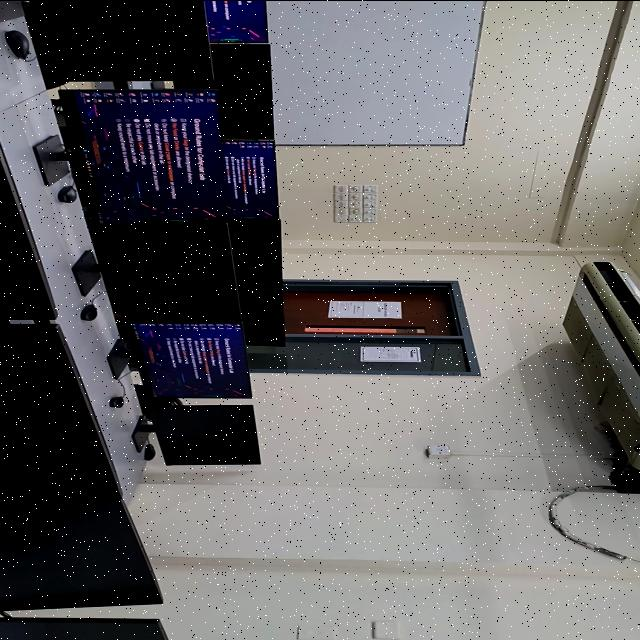Ac: (563, 261, 640, 475)
Monitor: (60, 89, 228, 223), (0, 323, 121, 500), (0, 499, 162, 610), (23, 0, 212, 87), (91, 222, 241, 323), (0, 145, 57, 320), (180, 43, 274, 139), (134, 322, 252, 397), (145, 404, 260, 464), (223, 140, 278, 218), (0, 617, 168, 640), (229, 218, 282, 287), (239, 288, 286, 345), (205, 0, 267, 42), (113, 24, 122, 37), (221, 432, 229, 436), (146, 289, 153, 292)
Mouse: (5, 29, 30, 59), (58, 185, 77, 202), (81, 303, 97, 320), (145, 443, 156, 460), (109, 396, 124, 406)
